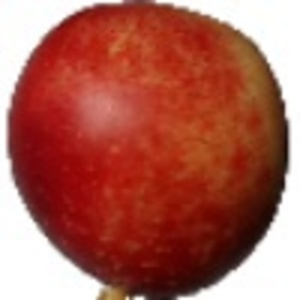nectarina: (5, 1, 291, 300)
